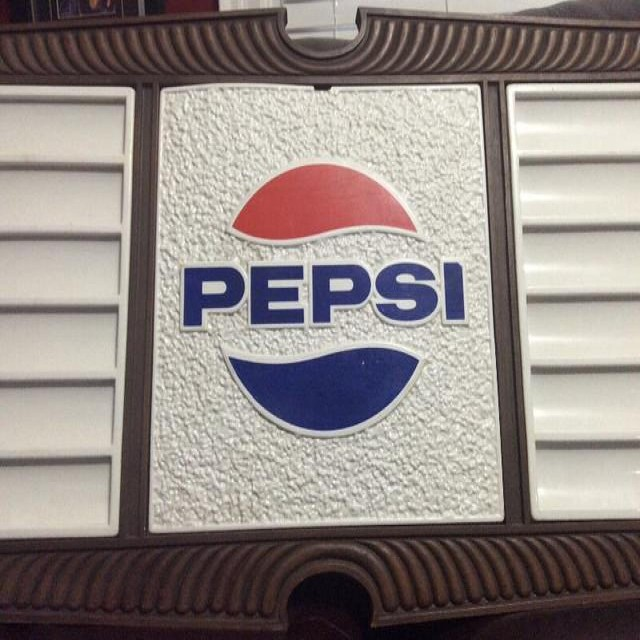pepsi: (172, 154, 472, 443)
